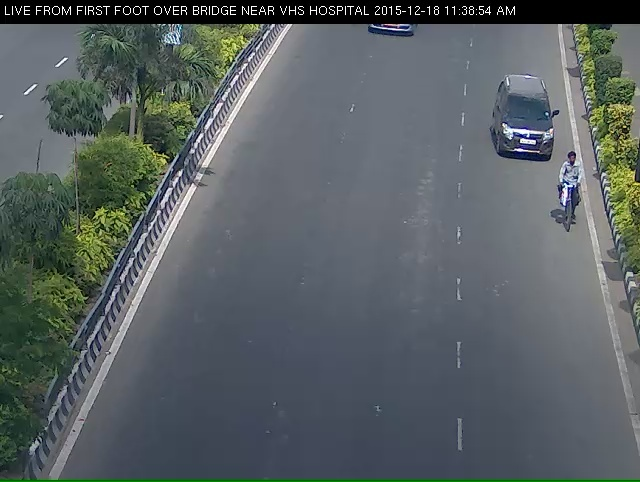Car: (489, 75, 562, 169)
